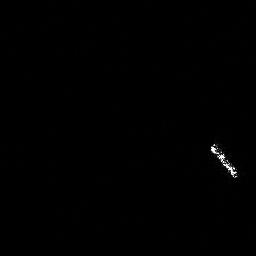ship: (208, 142, 239, 180)
